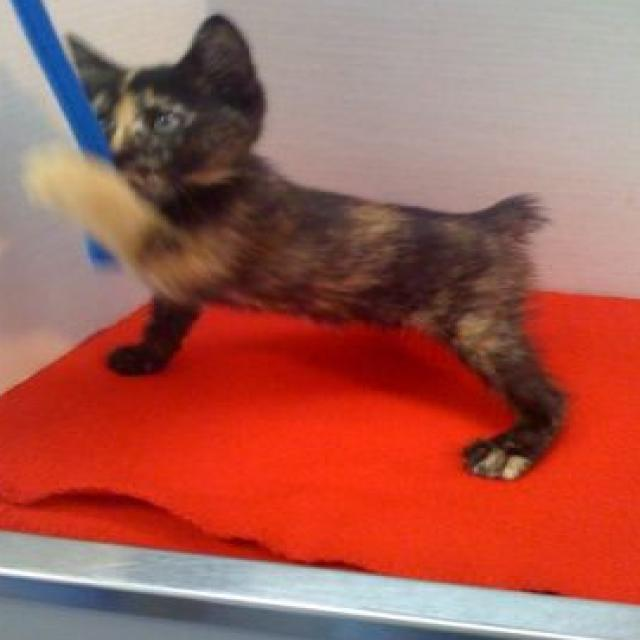American Bobtail: (16, 10, 574, 489)
